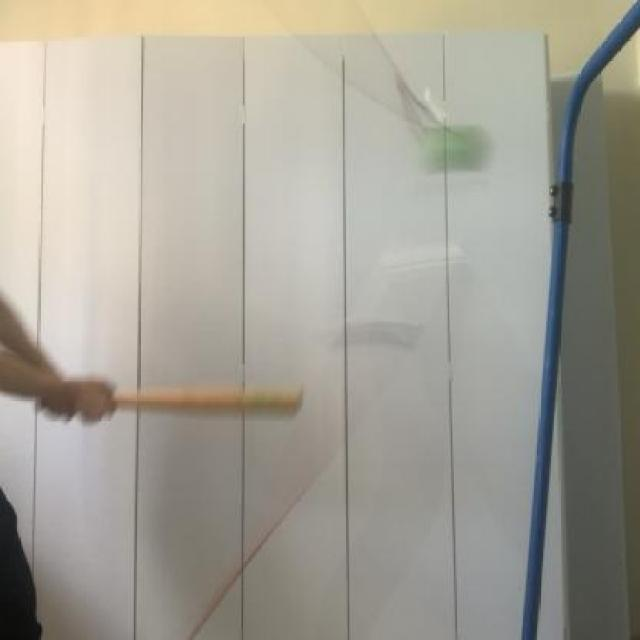baseball: (424, 104, 501, 174)
